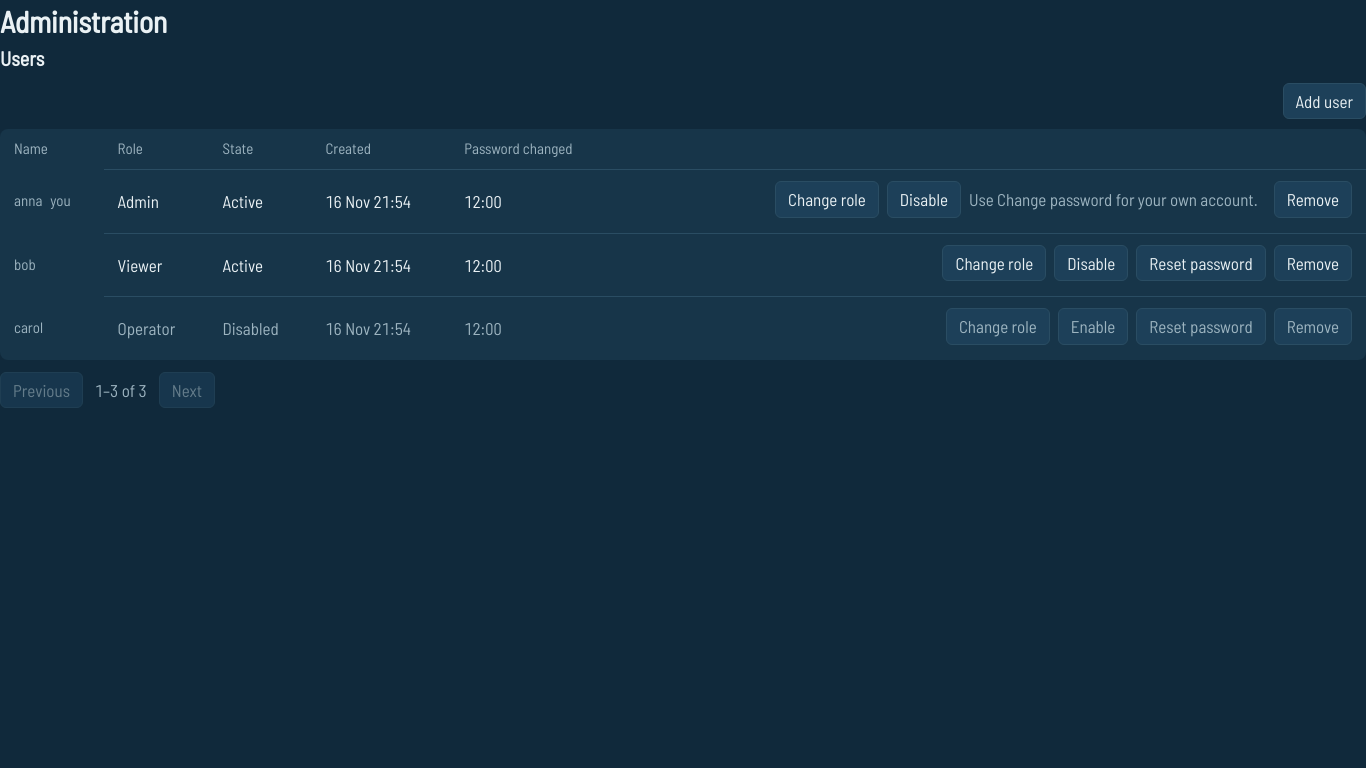
it: AdministrationPage › shows the server message when the last admin cannot be demoted
Click the button with aria-label "Change role of anna" at (827, 199), box [775,181,879,218]
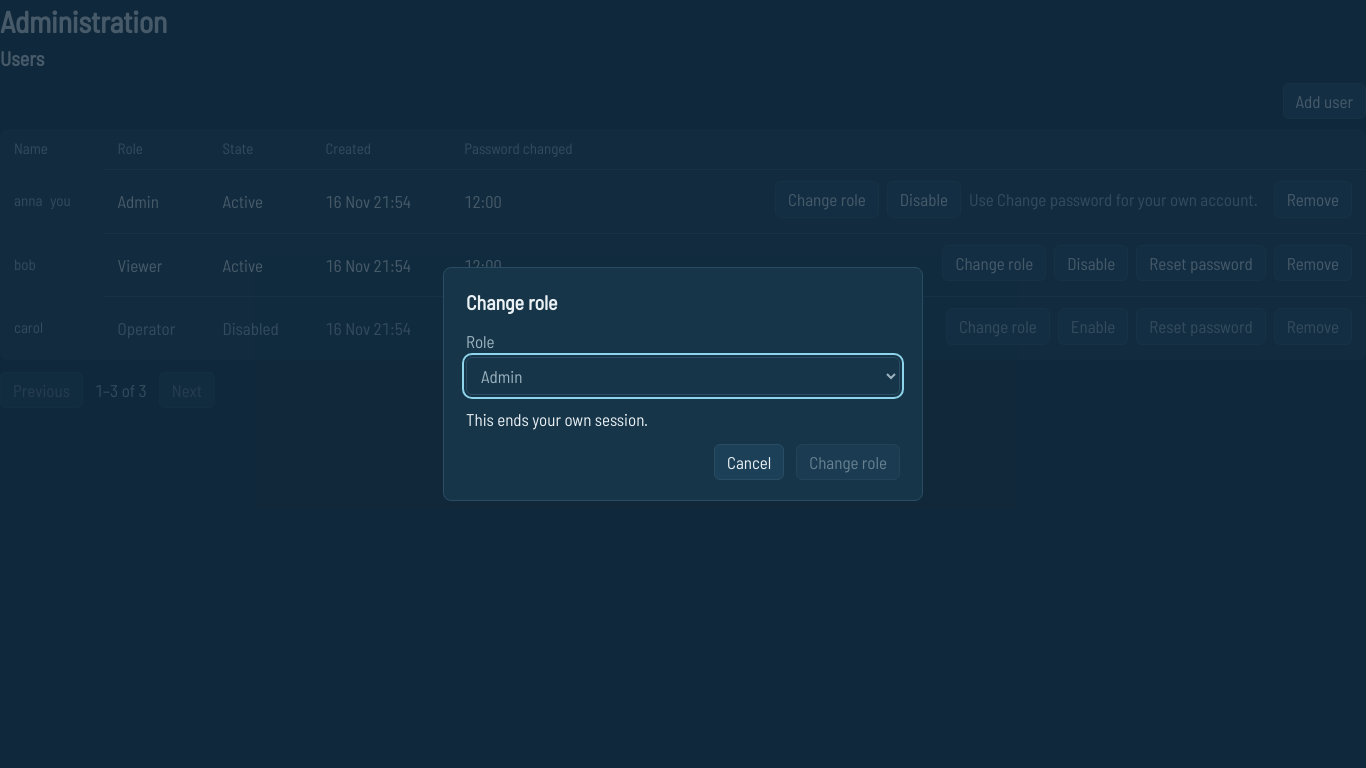
Check: the text "This ends your own session." is shown, box [466,409,648,429]
Select "Viewer" in the dropdown labelled "Role" at (683, 376), box [466,357,900,395]
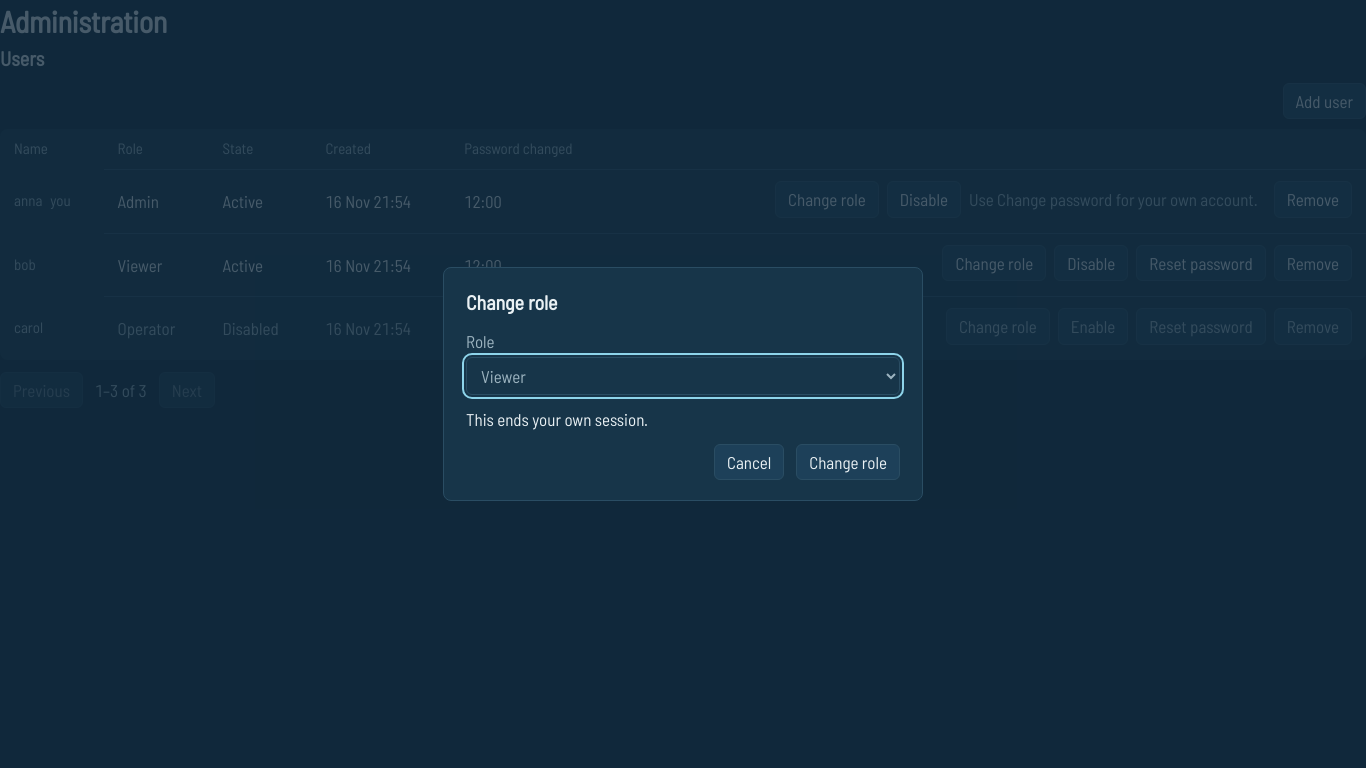
Click the button "Change role" at (848, 462), box [796,444,900,480]
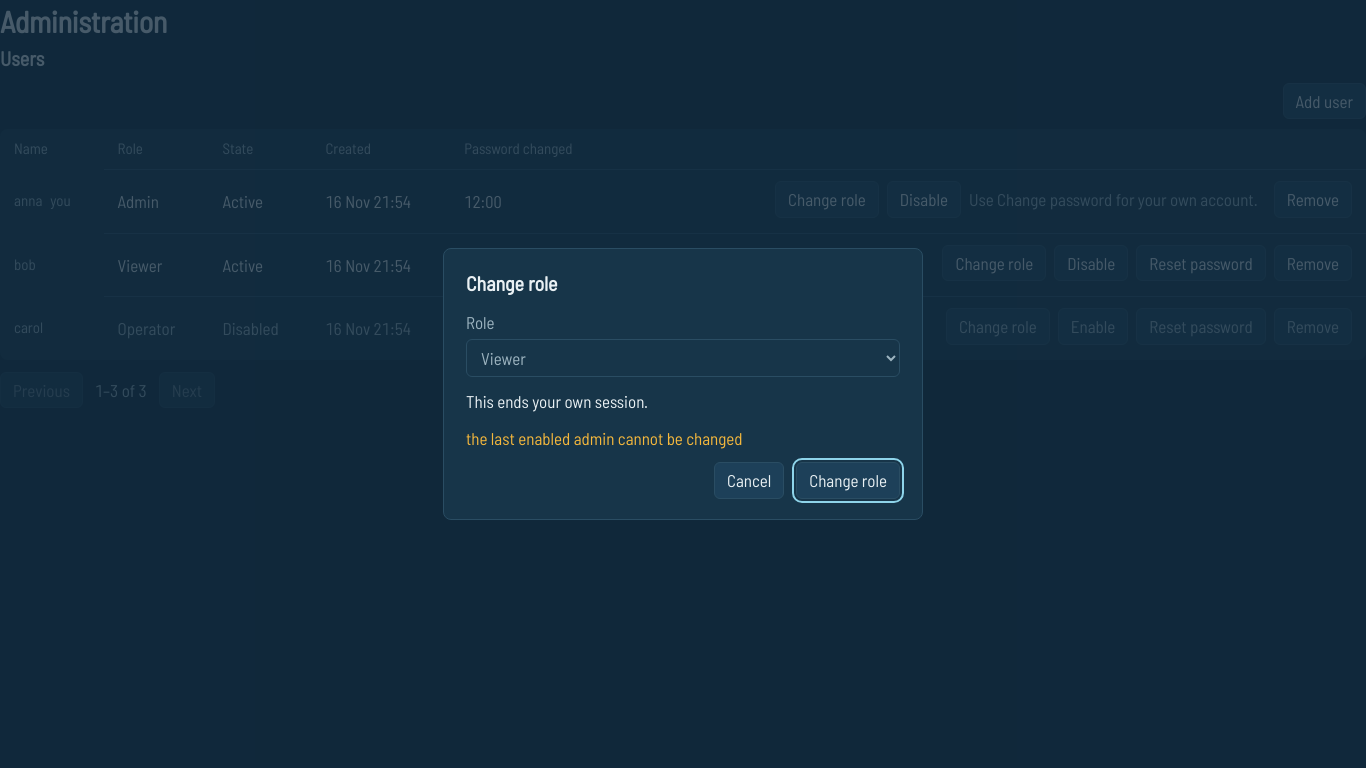
Check: the dialog "Change role" is shown, box [443,248,923,520]
Check: the message reads "the last enabled admin cannot be changed", box [466,428,743,448]
